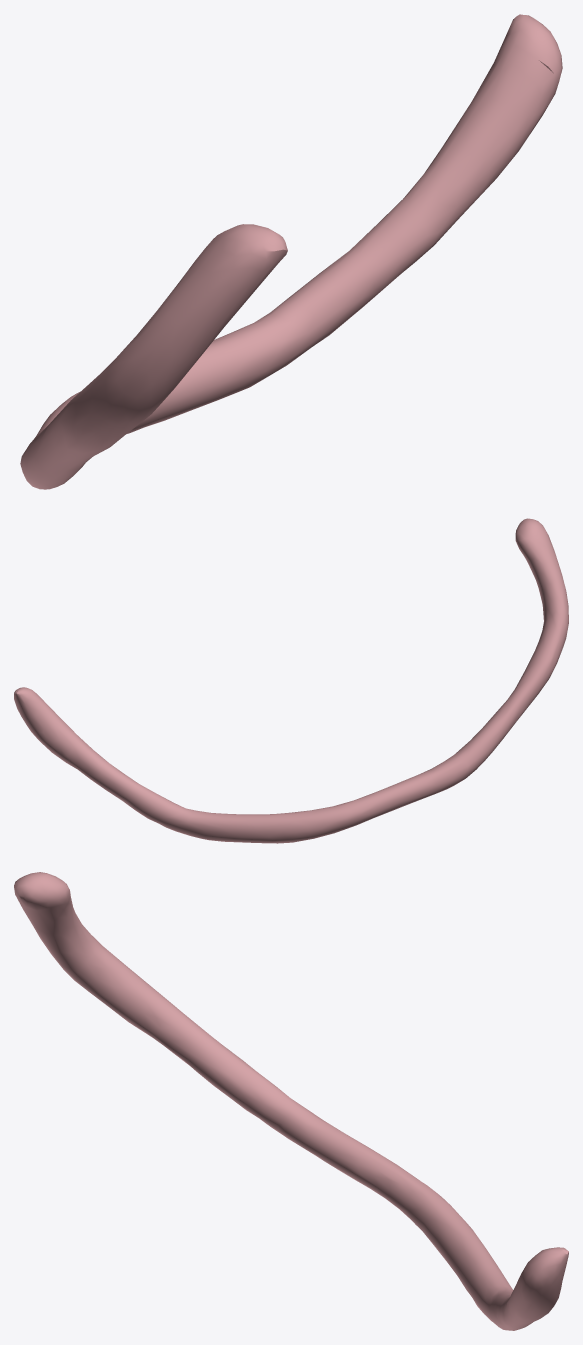
File: fma75138-r_mm3222m.glb
3 renders of one model, top to bottom at view 1: azimuth 30°, elevation 25°; view 2: azimuth 150°, elevation 25°; view 3: azimuth 270°, elevation 25°, orthographic. The views are drawn at different scales.
Visible parts, largest first — view 1: FMA75138-R_MM3222M; view 2: FMA75138-R_MM3222M; view 3: FMA75138-R_MM3222M.
Part boxes in pixels (x1,y1,x2,y2): FMA75138-R_MM3222M: (20, 14, 562, 489); FMA75138-R_MM3222M: (14, 518, 568, 843); FMA75138-R_MM3222M: (14, 872, 568, 1330).
Bounding box in the file's own units: 0.032 × 0.0186 × 0.0282.
